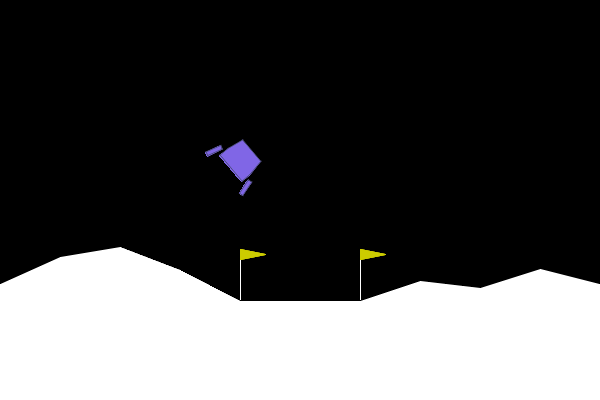lander: (203, 127, 272, 198)
